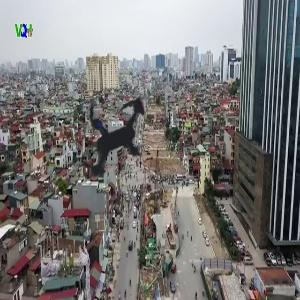drone: (26, 49, 206, 229)
